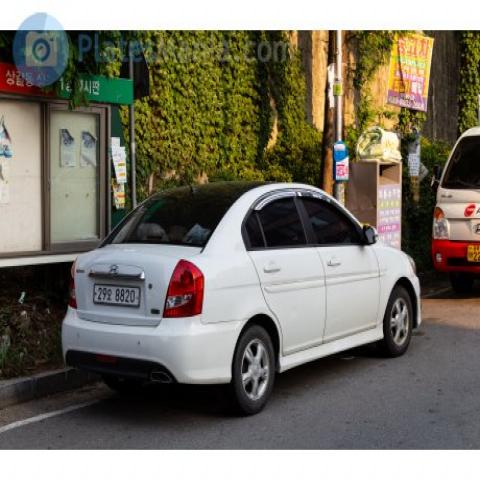LP: (80, 276, 153, 322)
